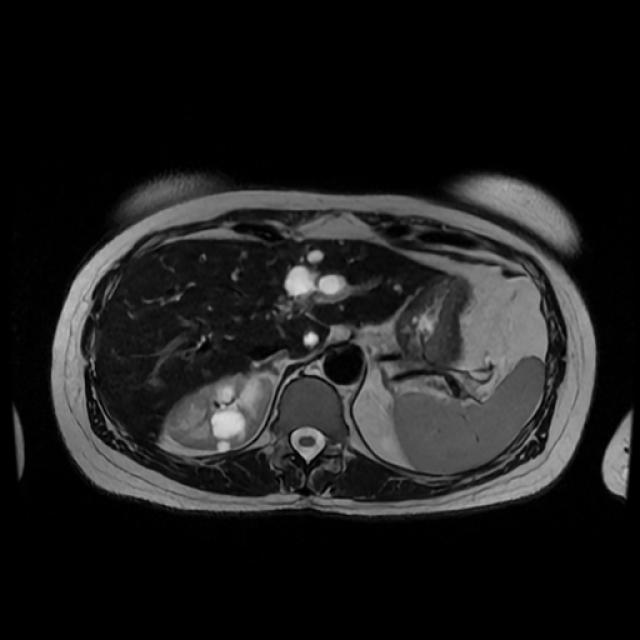sag: (166, 370, 274, 450)
sol: (358, 396, 394, 454)
